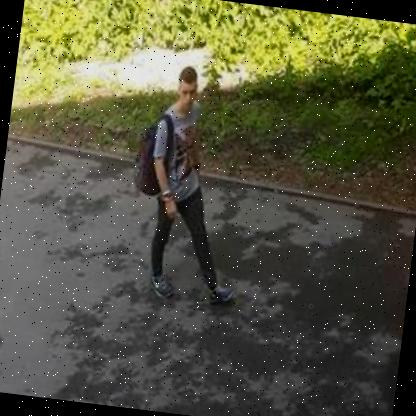person: (113, 54, 254, 314)
